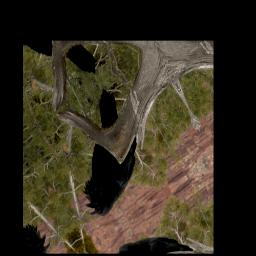Crow: (45, 84, 157, 225)
